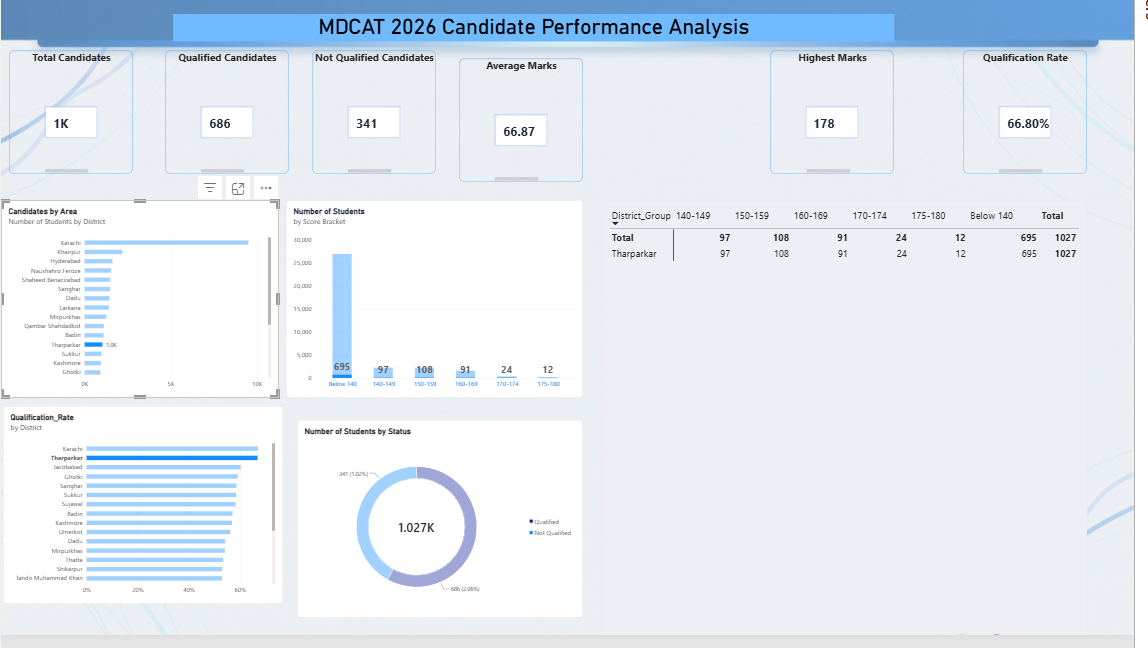

What the dashboard file says about the page in this screenshot:
{"tool":"powerbi","page":{"name":"Page 1","canvas":[2560,1440],"ordinal":0},"visuals":[{"type":"cardVisual","title":"Total Candidates","fields":{"Data":["Count(MDCAT_Result_2026.Seat No)"]},"box":[17.8,119.1,280,280],"z":0},{"type":"textbox","title":"MDCAT 2026 Candidate Performance Analysis","box":[388.6,38.4,1630.2,62.2],"z":1000},{"type":"cardVisual","title":"Qualified Candidates ","fields":{"Data":["MDCAT_Result_2026.Qualified Candidates"]},"box":[369.7,119.1,280,280],"z":2000},{"type":"cardVisual","title":"Highest Marks ","fields":{"Data":["MDCAT_Result_2026.Highest Marks"]},"box":[1738.4,119.9,280,280],"z":3000},{"type":"cardVisual","title":"Not Qualified Candidates","fields":{"Data":["MDCAT_Result_2026.Not Qualified Candidates"]},"box":[701.8,119.1,280,280],"z":4000},{"type":"cardVisual","title":"Qualification Rate","fields":{"Data":["MDCAT_Result_2026.Qualification_Rate"]},"box":[2174.1,119.9,280,280],"z":6000},{"type":"clusteredColumnChart","fields":{"Category":["MDCAT_Result_2026.Score Bracket"],"Y":["CountNonNull(MDCAT_Result_2026.Seat No)"]},"box":[644,458.7,671,447],"z":10000},{"type":"clusteredBarChart","title":"Candidates by Area","fields":{"Category":["MDCAT_Result_2026.District_Group"],"Y":["CountNonNull(MDCAT_Result_2026.Seat No)"]},"box":[4.5,458.7,628.1,447.4],"z":10003},{"type":"clusteredBarChart","fields":{"Category":["MDCAT_Result_2026.District_Group"],"Y":["MDCAT_Result_2026.Qualification_Rate"]},"box":[4.5,924.1,632.7,447.4],"z":10004},{"type":"donutChart","title":"Number of Students by Status","fields":{"Category":["MDCAT_Result_2026.Qualification_Status"],"Y":["Count(MDCAT_Result_2026.Seat No)"]},"box":[668.8,955.8,646.2,447.4],"z":10005},{"type":"pivotTable","fields":{"Columns":["MDCAT_Result_2026.Score Bracket"],"Rows":["MDCAT_Result_2026.District_Group"],"Values":["Count(MDCAT_Result_2026.Seat No)"]},"box":[1358,458.7,1095.9,980.6],"z":10006},{"type":"cardVisual","title":"Average Marks","fields":{"Data":["Avg(MDCAT_Result_2026.Obtained Marks)"]},"box":[1034.8,137.8,280,280],"z":10007}]}

Visuals, with their boxes in screenshot pixels (x1, y1, x2, y2), scaled from the page's 2560x1440 canvas onto the 1148x648 screenshot:
"Total Candidates" cardVisual: locate(8, 54, 134, 180)
"MDCAT 2026 Candidate Performance Analysis" textbox: locate(174, 17, 905, 45)
"Qualified Candidates " cardVisual: locate(166, 54, 291, 180)
"Highest Marks " cardVisual: locate(780, 54, 905, 180)
"Not Qualified Candidates" cardVisual: locate(315, 54, 440, 180)
"Qualification Rate" cardVisual: locate(975, 54, 1101, 180)
clusteredColumnChart - MDCAT_Result_2026.Score Bracket x CountNonNull(MDCAT_Result_2026.Seat No): locate(289, 206, 590, 408)
"Candidates by Area" clusteredBarChart: locate(2, 206, 284, 408)
clusteredBarChart - MDCAT_Result_2026.District_Group x MDCAT_Result_2026.Qualification_Rate: locate(2, 416, 286, 617)
"Number of Students by Status" donutChart: locate(300, 430, 590, 631)
pivotTable - MDCAT_Result_2026.Score Bracket x MDCAT_Result_2026.District_Group: locate(609, 206, 1100, 647)
"Average Marks" cardVisual: locate(464, 62, 590, 188)
